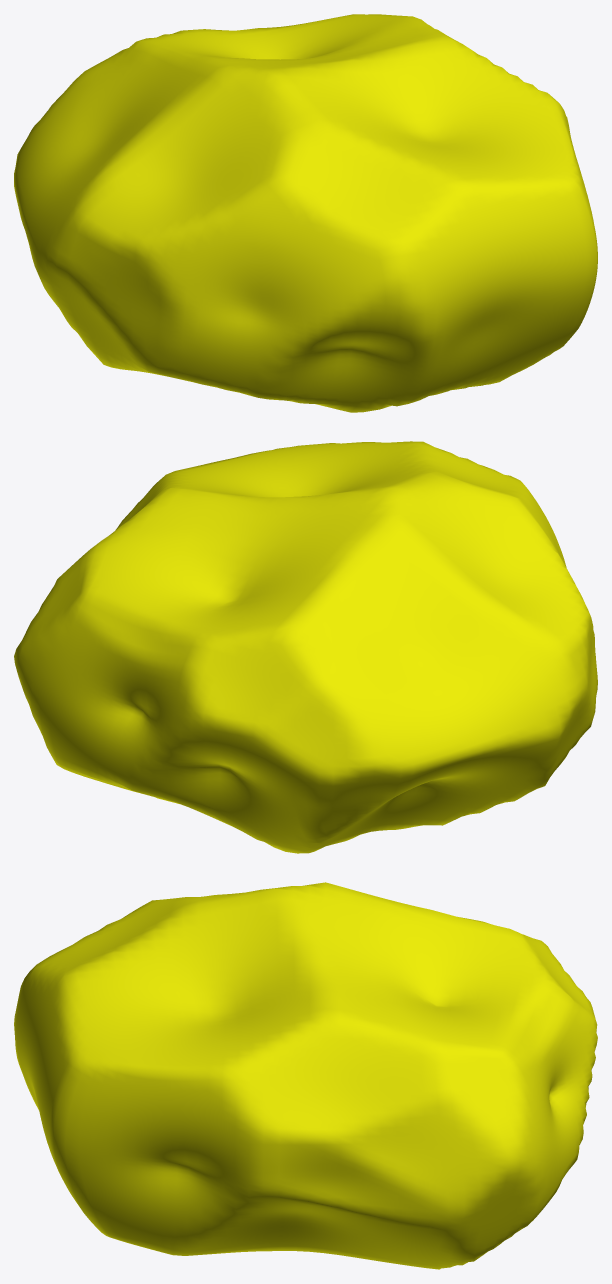
The model's file is rock3-SP.fbx.
3 renders of one model, top to bottom at view 1: azimuth 30°, elevation 25°; view 2: azimuth 150°, elevation 25°; view 3: azimuth 270°, elevation 25°, orthographic.
Visible parts, largest first — view 1: Cube; view 2: Cube; view 3: Cube.
Part boxes in pixels (x1,y1,x2,y2): Cube: (14, 14, 597, 412); Cube: (14, 441, 597, 853); Cube: (14, 882, 597, 1269).
Bounding box in the file's own units: 317 × 196 × 334.
